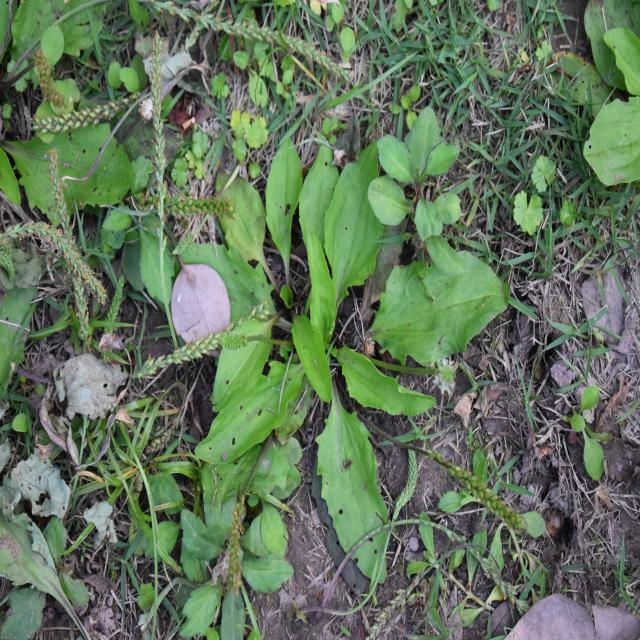plantain: (203, 161, 484, 564)
